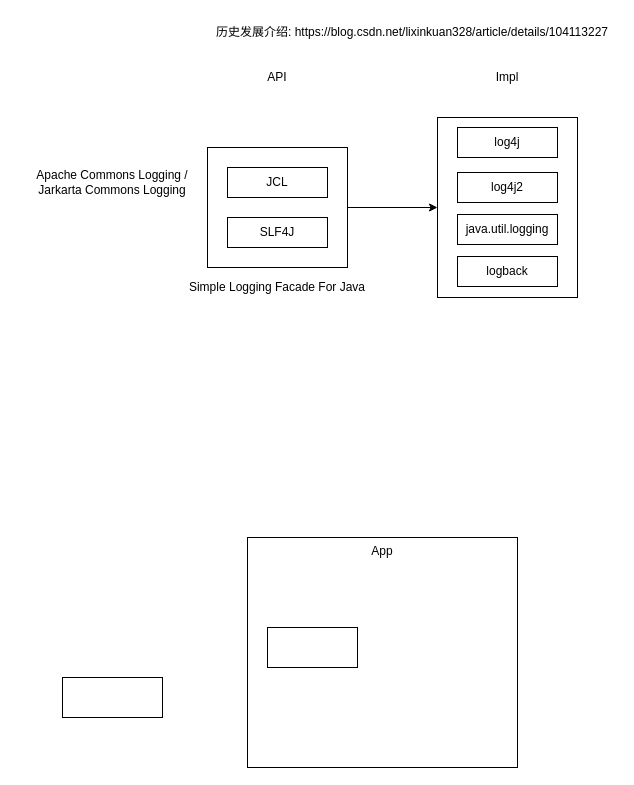
Image size: 634x785. Some labels were removed from this diagram. Here are the shapes that lost their labels. From the top down, the centre of each, then its label:
(x=312, y=647): JMX Agent
(x=112, y=697): JMX Connector
